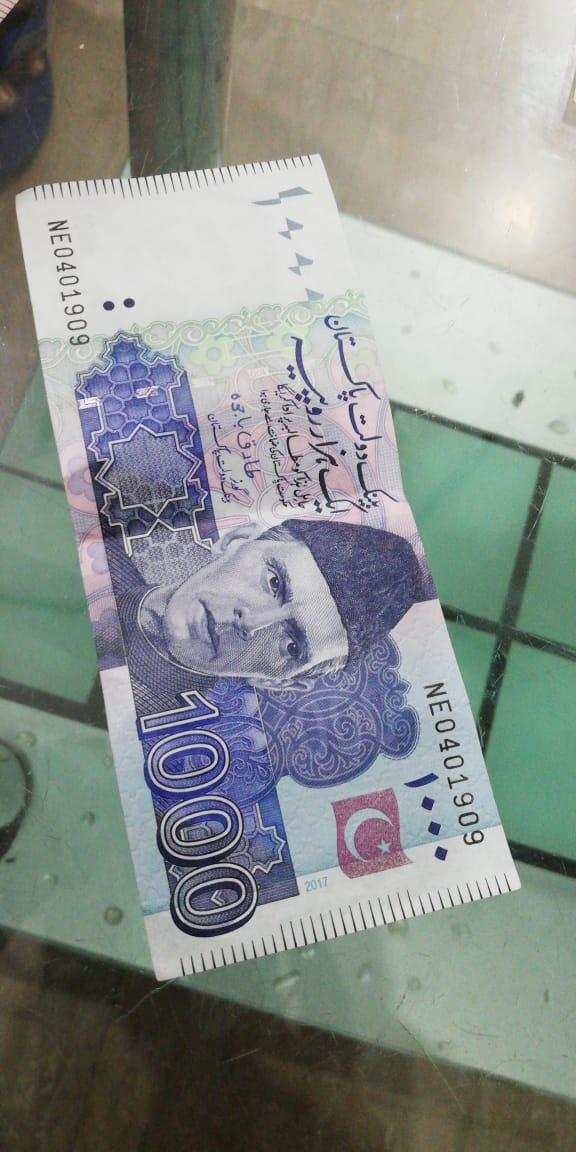1000 rupee: (13, 142, 548, 1017)
